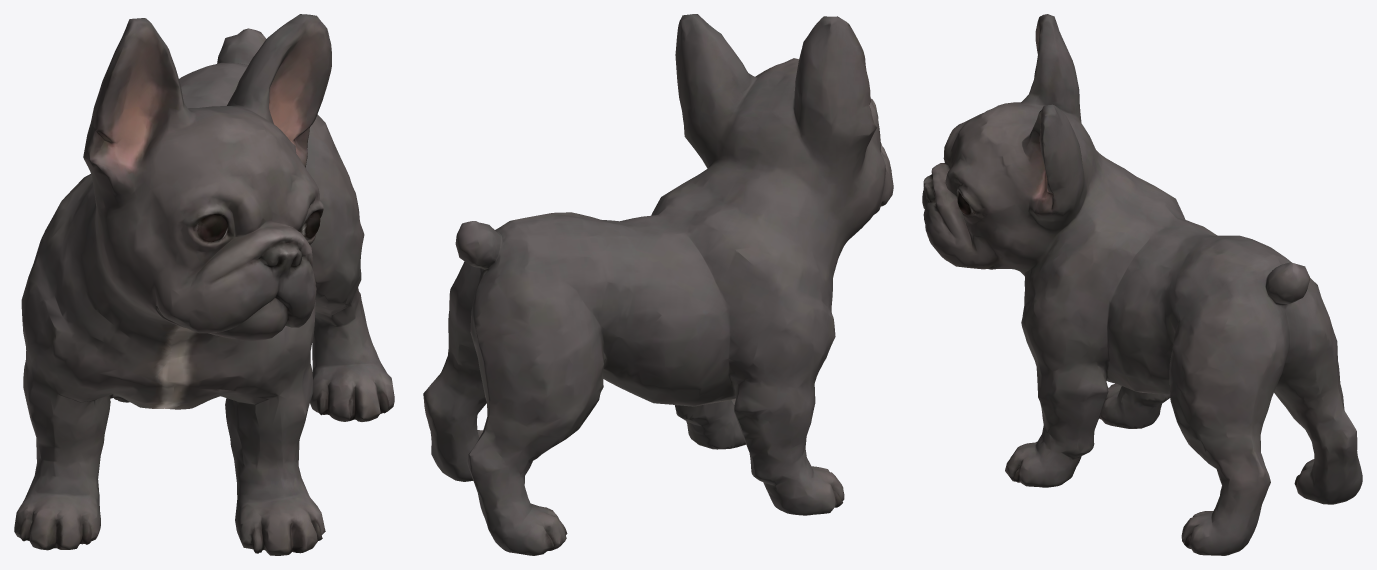
The model's file is dog.glb.
The picture shows the model from 3 angles, left to right: view 1: azimuth 30°, elevation 25°; view 2: azimuth 150°, elevation 25°; view 3: azimuth 270°, elevation 25°; orthographic projection. The views are drawn at different scales.
Parts seen in each view (by area): view 1: tripo_node_d1c62afa-f708-44e6-860a-bbef2170bb3d; view 2: tripo_node_d1c62afa-f708-44e6-860a-bbef2170bb3d; view 3: tripo_node_d1c62afa-f708-44e6-860a-bbef2170bb3d.
Part boxes in pixels (<box>): tripo_node_d1c62afa-f708-44e6-860a-bbef2170bb3d: <box>14,14,394,555</box>; tripo_node_d1c62afa-f708-44e6-860a-bbef2170bb3d: <box>423,14,893,555</box>; tripo_node_d1c62afa-f708-44e6-860a-bbef2170bb3d: <box>922,14,1362,555</box>.
Bounding box in the file's own units: 0.7972 × 0.9795 × 0.9499.
Materials: 1 (1 with a texture image).
